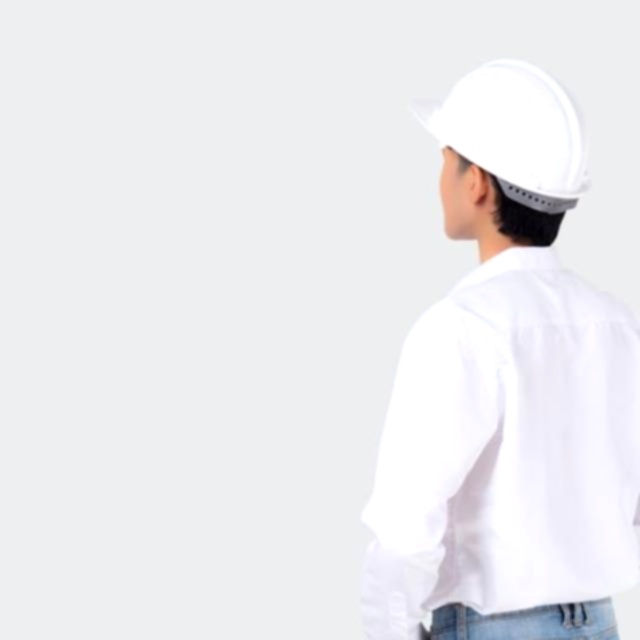Con_Casco: (412, 61, 594, 249)
Sin_Chaleco: (391, 250, 640, 623)
